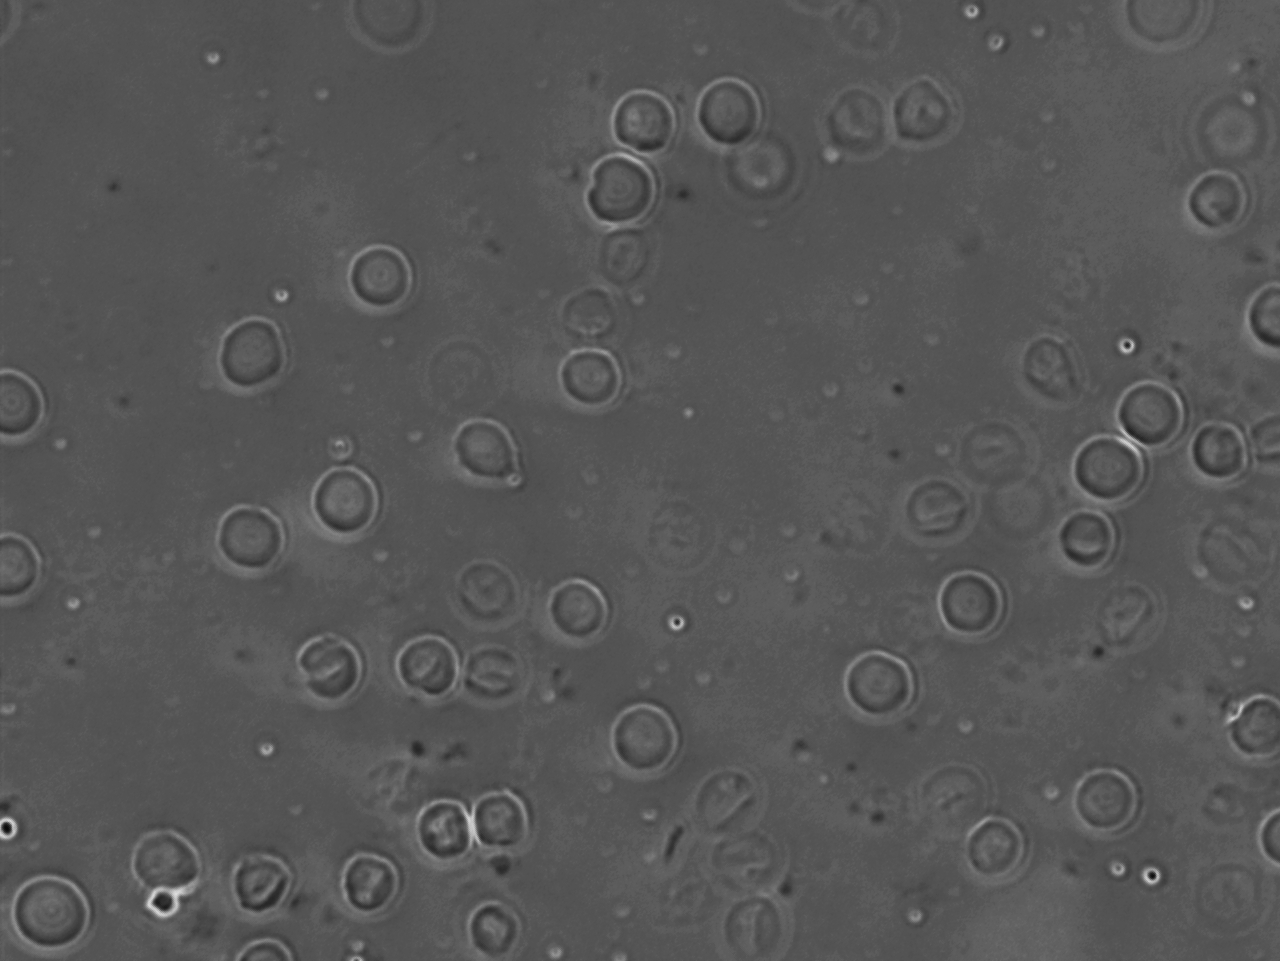depth:0: (2, 862, 111, 961), (830, 635, 927, 727), (595, 691, 688, 780), (1101, 367, 1198, 452), (923, 552, 1011, 643), (339, 237, 431, 325), (1063, 759, 1155, 846), (571, 147, 665, 231), (445, 403, 535, 490), (127, 822, 218, 907), (459, 783, 548, 866), (205, 310, 293, 392), (388, 618, 471, 703), (1065, 425, 1149, 510), (686, 68, 769, 153), (600, 76, 685, 158), (535, 566, 625, 645), (551, 335, 640, 413), (1176, 156, 1260, 238), (408, 786, 490, 869), (1049, 492, 1130, 575), (211, 496, 296, 575), (303, 461, 382, 539), (1217, 675, 1280, 763), (1185, 411, 1261, 483), (1236, 270, 1280, 356)
